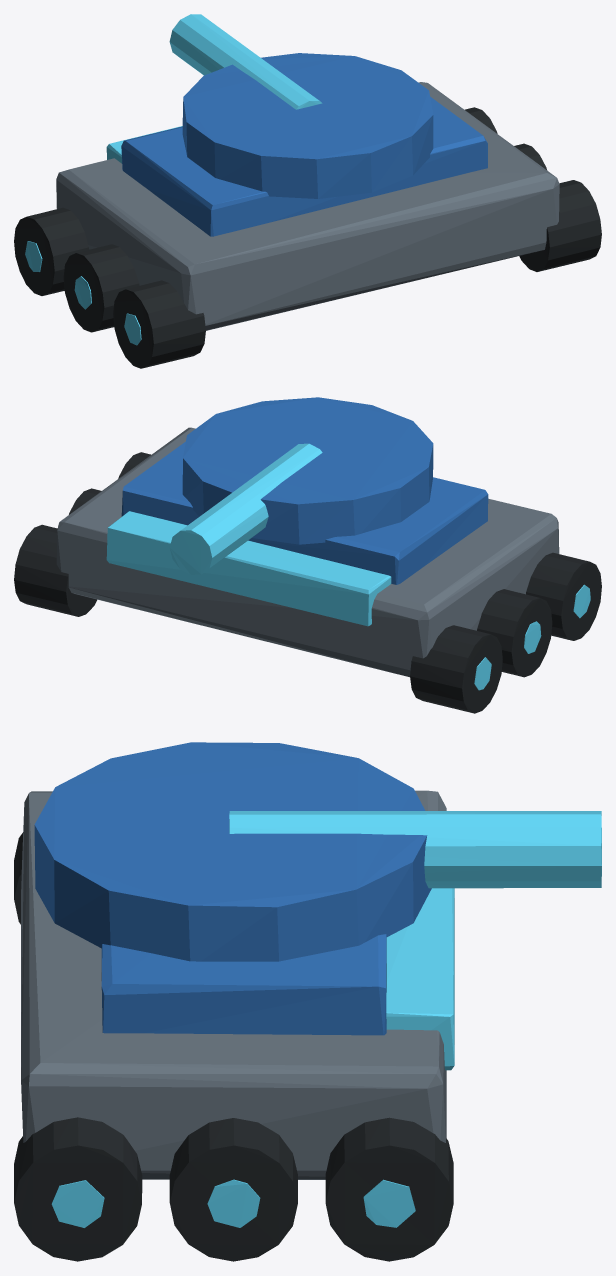
Rendered from SM_Alliance_AL_BulwarkMBT_LOD2.fbx.
3 renders of one model, top to bottom at view 1: azimuth 30°, elevation 25°; view 2: azimuth 150°, elevation 25°; view 3: azimuth 270°, elevation 25°, orthographic. The views are drawn at different scales.
Parts seen in each view (by area): view 1: LOD02_SM_Alliance_AL_BulwarkMBT; view 2: LOD02_SM_Alliance_AL_BulwarkMBT; view 3: LOD02_SM_Alliance_AL_BulwarkMBT.
Boxes of the visible parts, x1=… form: LOD02_SM_Alliance_AL_BulwarkMBT: x1=14, y1=14, x2=601, y2=368; LOD02_SM_Alliance_AL_BulwarkMBT: x1=14, y1=397, x2=601, y2=713; LOD02_SM_Alliance_AL_BulwarkMBT: x1=14, y1=742, x2=601, y2=1261.
Bounding box in the file's own units: 503 × 362 × 187.
